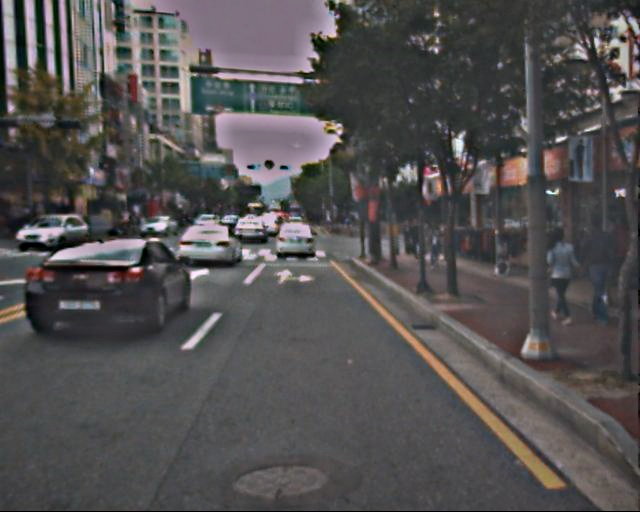person: (573, 214, 621, 328), (538, 229, 581, 322), (425, 221, 445, 271), (404, 220, 423, 262)
